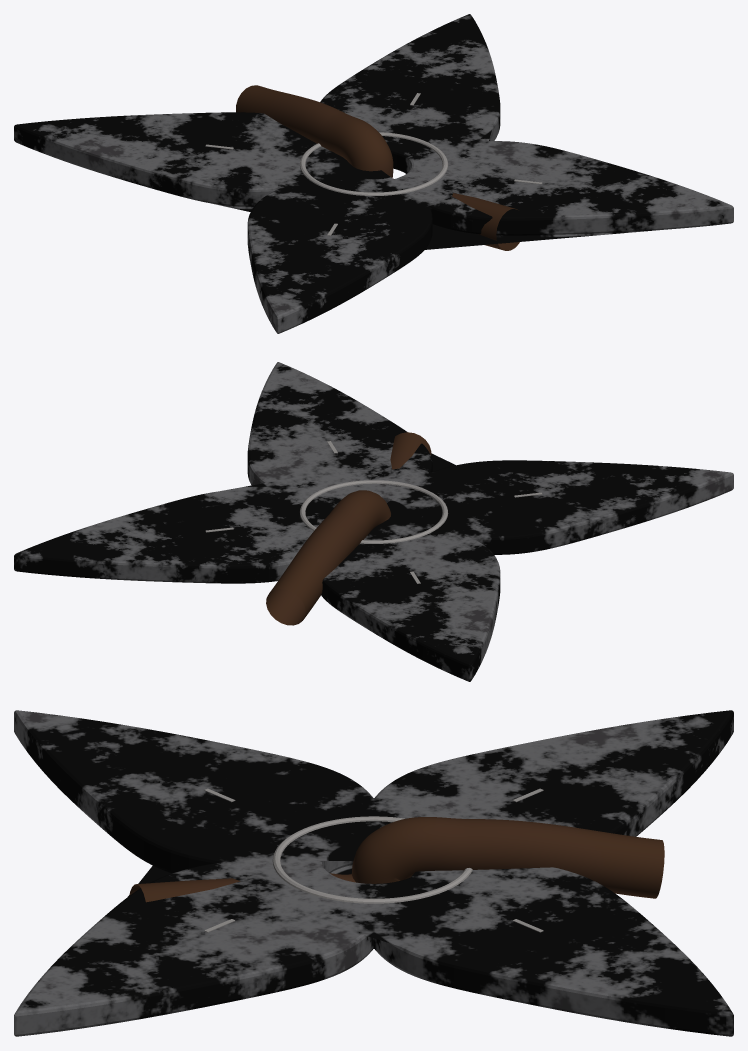
File: wurfstern.fbx
3 renders of one model, top to bottom at view 1: azimuth 30°, elevation 25°; view 2: azimuth 150°, elevation 25°; view 3: azimuth 270°, elevation 25°, orthographic. The views are drawn at different scales.
Visible parts, largest first — view 1: Wurfstern_Game; view 2: Wurfstern_Game; view 3: Wurfstern_Game.
Part boxes in pixels (x1,y1,x2,y2): Wurfstern_Game: [14, 14, 733, 333]; Wurfstern_Game: [14, 362, 733, 681]; Wurfstern_Game: [14, 710, 733, 1036].
Bounding box in the file's own units: 7.76 × 1.29 × 7.76.
Materials: 1 (1 with a texture image).
